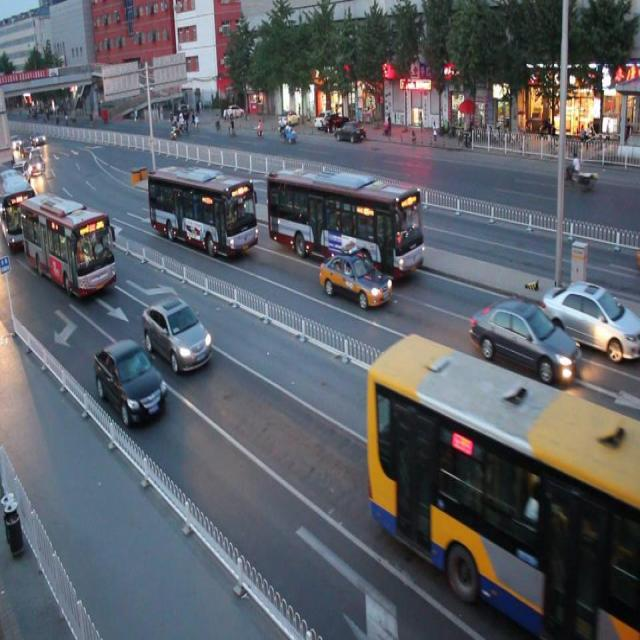BigCar: (371, 326, 640, 627), (264, 166, 428, 274), (140, 157, 262, 266), (22, 198, 122, 312)
car: (466, 301, 578, 390), (545, 267, 640, 366), (94, 343, 166, 424), (144, 291, 213, 374), (318, 240, 392, 311), (334, 118, 368, 146), (224, 99, 247, 123)
